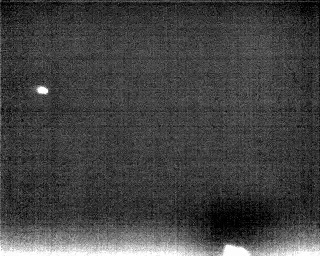AIRPLANE: (35, 83, 51, 97)
